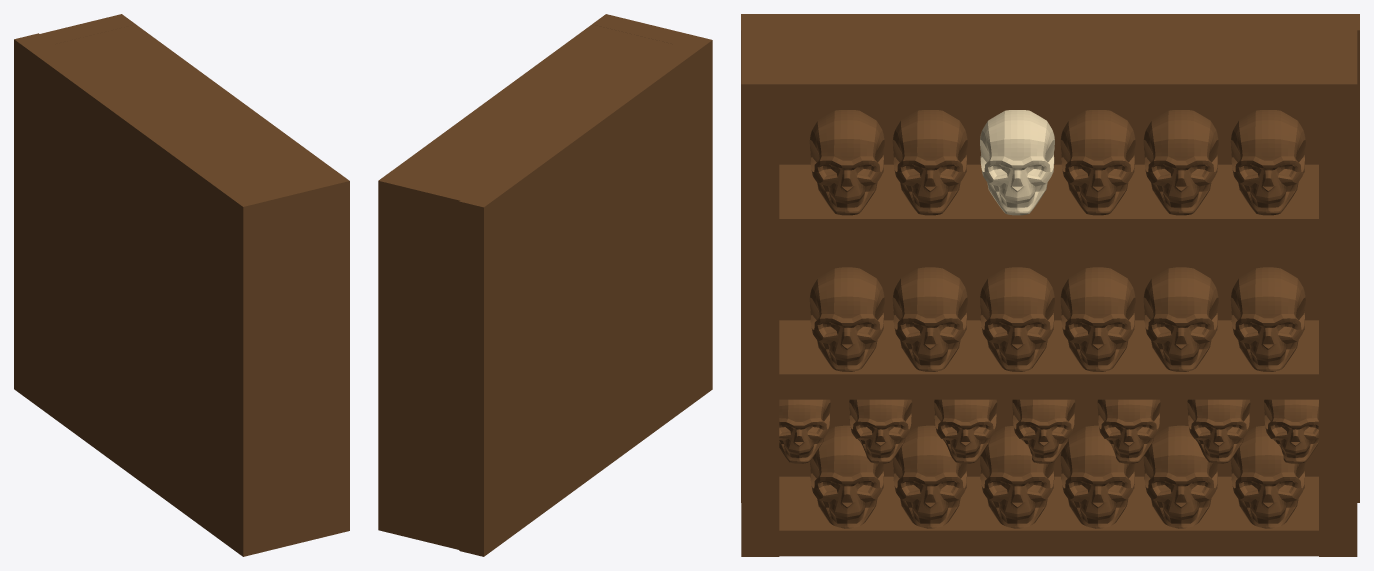
Rendered from Reol_Scull2.fbx.
3 views of the same model, side by side, from view 1: azimuth 30°, elevation 25°; view 2: azimuth 150°, elevation 25°; view 3: azimuth 270°, elevation 25° (orthographic). The views are drawn at different scales.
Parts seen in each view (by area): view 1: Cube.006; view 2: Cube.006; view 3: Cube.006, Skull - Planar.012, Skull - Planar.011, Skull - Planar.005.
Part boxes in pixels (bbox=[...]): Cube.006: bbox=[14, 14, 349, 556]; Cube.006: bbox=[378, 14, 712, 556]; Cube.006: bbox=[741, 14, 1359, 556]; Skull - Planar.012: bbox=[779, 399, 1318, 528]; Skull - Planar.011: bbox=[809, 110, 1305, 215]; Skull - Planar.005: bbox=[809, 267, 1305, 371].
Size of the model in its own units: 193 by 605 by 718.
3 materials, 2 textured.
